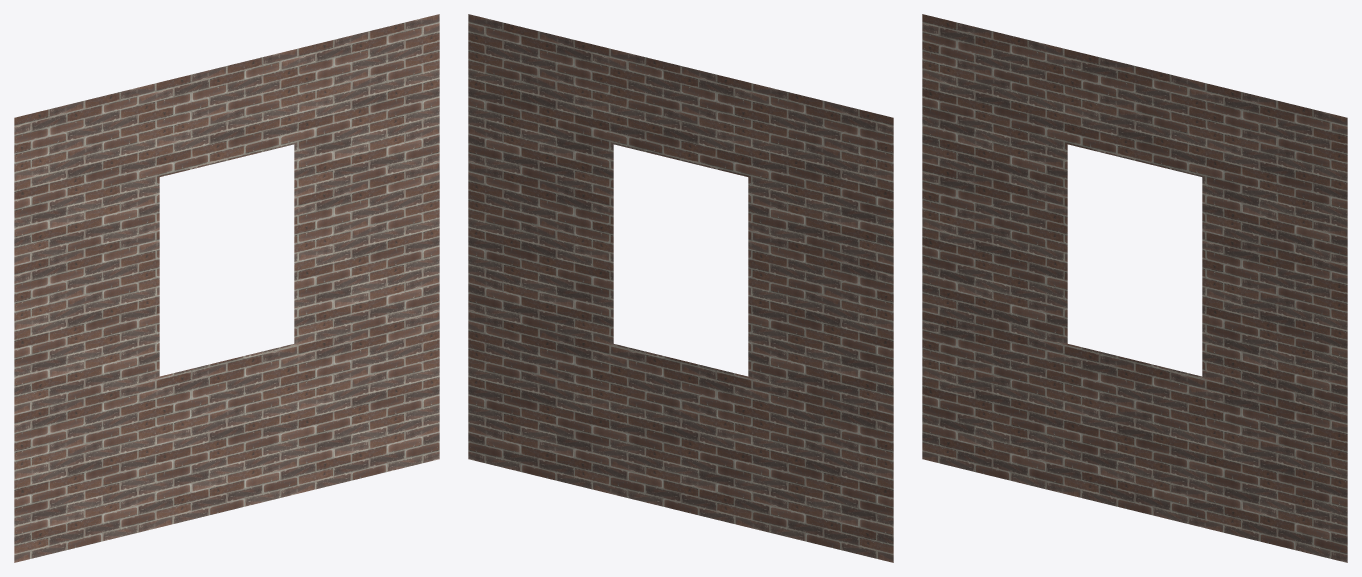
File: wallpaper_013.fbx
3 renders of one model, left to right at view 1: azimuth 30°, elevation 25°; view 2: azimuth 150°, elevation 25°; view 3: azimuth 330°, elevation 25°, orthographic.
Visible parts, largest first — view 1: wallpaper_013; view 2: wallpaper_013; view 3: wallpaper_013.
Part boxes in pixels (left/top/right/bottom): wallpaper_013: left=14, top=14, right=439, bottom=562; wallpaper_013: left=468, top=14, right=893, bottom=562; wallpaper_013: left=922, top=14, right=1347, bottom=562.
Size of the model in its own units: 400 by 4.77e-05 by 400.
